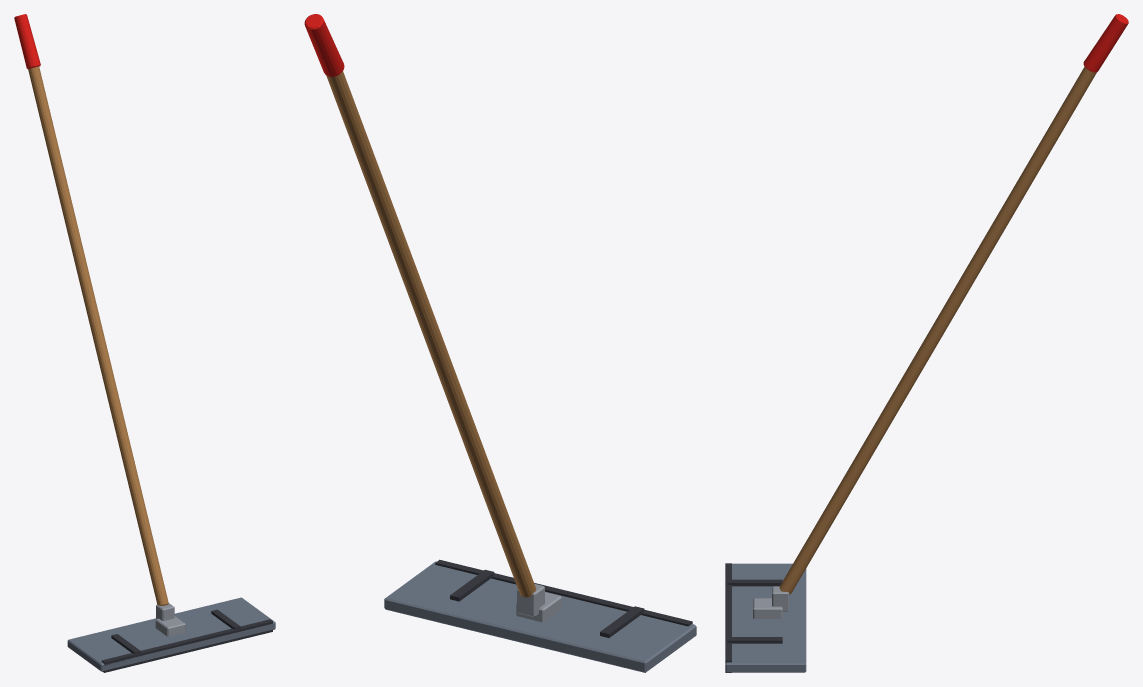
Rendered from ComeAlong.glb.
The picture shows the model from 3 angles, left to right: view 1: azimuth 30°, elevation 25°; view 2: azimuth 150°, elevation 25°; view 3: azimuth 270°, elevation 25°; orthographic projection. The views are drawn at different scales.
Parts seen in each view (by area): view 1: Body, Head; view 2: Head, Body; view 3: Body, Head.
Part boxes in pixels (x1=…): Body: x1=14, y1=14, x2=185, y2=636; Head: x1=67, y1=597, x2=275, y2=672; Head: x1=384, y1=559, x2=696, y2=672; Body: x1=304, y1=14, x2=561, y2=622; Body: x1=753, y1=14, x2=1128, y2=618; Head: x1=725, y1=563, x2=806, y2=672.
Bounding box in the file's own units: 0.56 × 1.58 × 0.9473.
